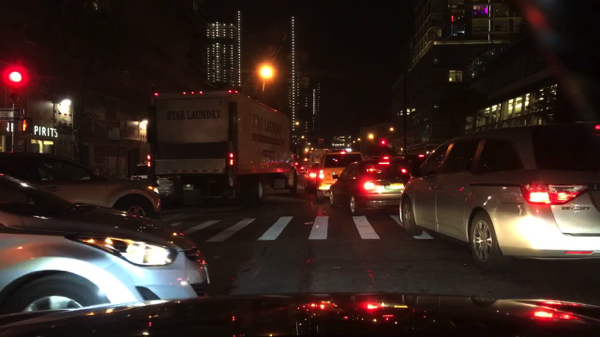car: (398, 119, 599, 274), (0, 170, 211, 315), (0, 149, 163, 221), (329, 159, 411, 216), (311, 148, 365, 204), (147, 177, 194, 208), (302, 162, 319, 194), (130, 161, 150, 181), (368, 154, 404, 161), (295, 164, 311, 178), (291, 161, 300, 168)
traffic light: (17, 116, 34, 134), (7, 68, 24, 85)
traffic sign: (105, 119, 122, 142), (0, 108, 26, 122), (0, 118, 18, 136), (419, 129, 434, 143)
truck: (147, 88, 299, 207), (308, 147, 331, 164)
